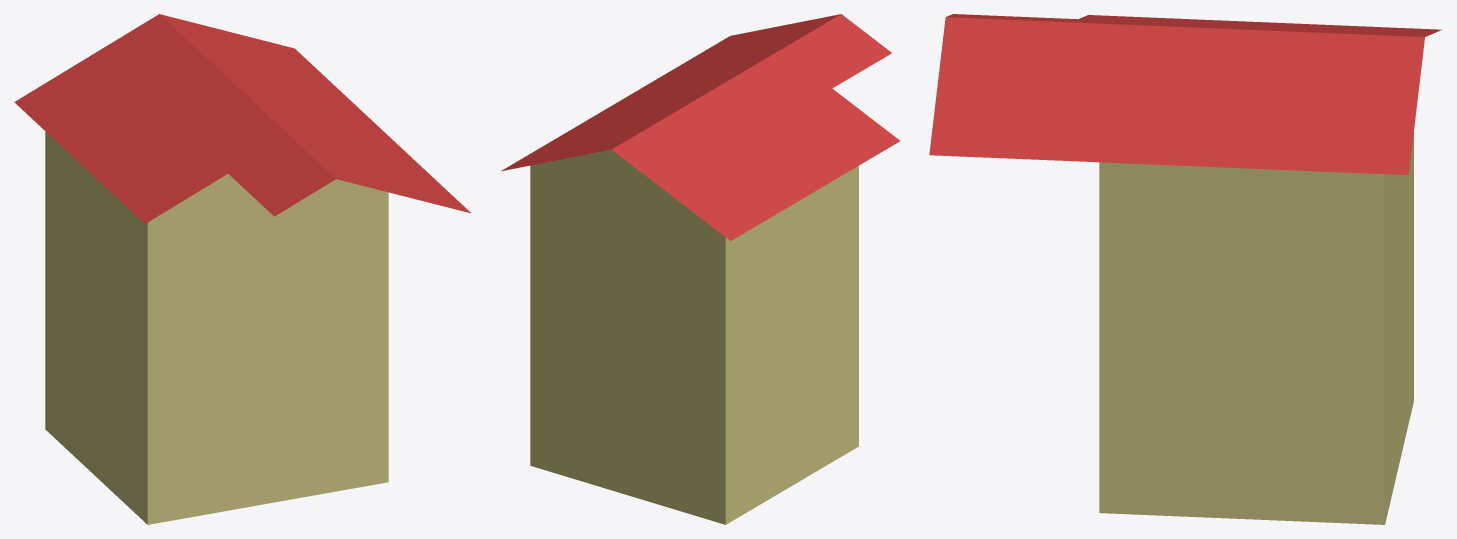
The picture shows the model from 3 angles, left to right: view 1: azimuth 30°, elevation 25°; view 2: azimuth 150°, elevation 25°; view 3: azimuth 270°, elevation 25°; orthographic projection. The views are drawn at different scales.
Size of the model in its own units: 7.2 by 9.75 by 9.01.
